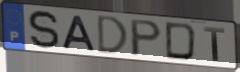A: (61, 14, 98, 53)
D: (164, 21, 199, 63), (97, 14, 130, 55)
P: (130, 18, 165, 58)
S: (27, 9, 62, 51)
T: (202, 25, 226, 63)
